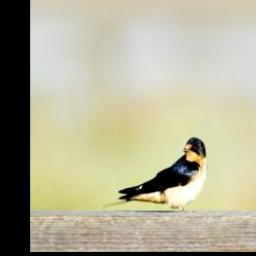Swallow: (101, 136, 208, 215)
